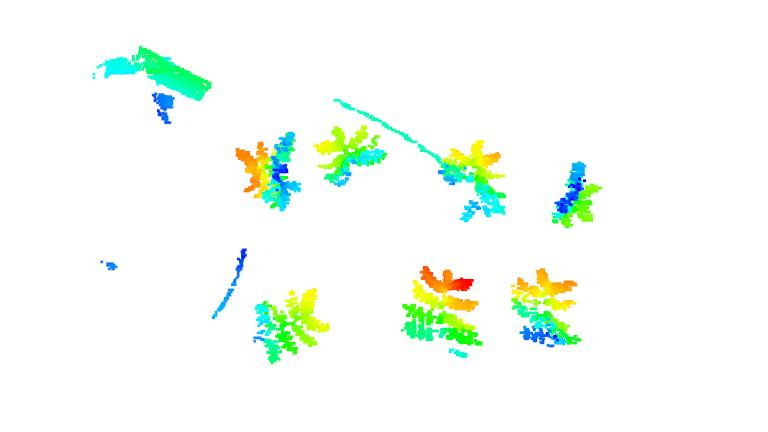chickpea: (399, 264, 484, 358), (252, 288, 333, 365), (511, 268, 585, 349), (236, 130, 303, 213), (441, 140, 508, 222), (317, 123, 387, 189), (546, 160, 603, 227)
